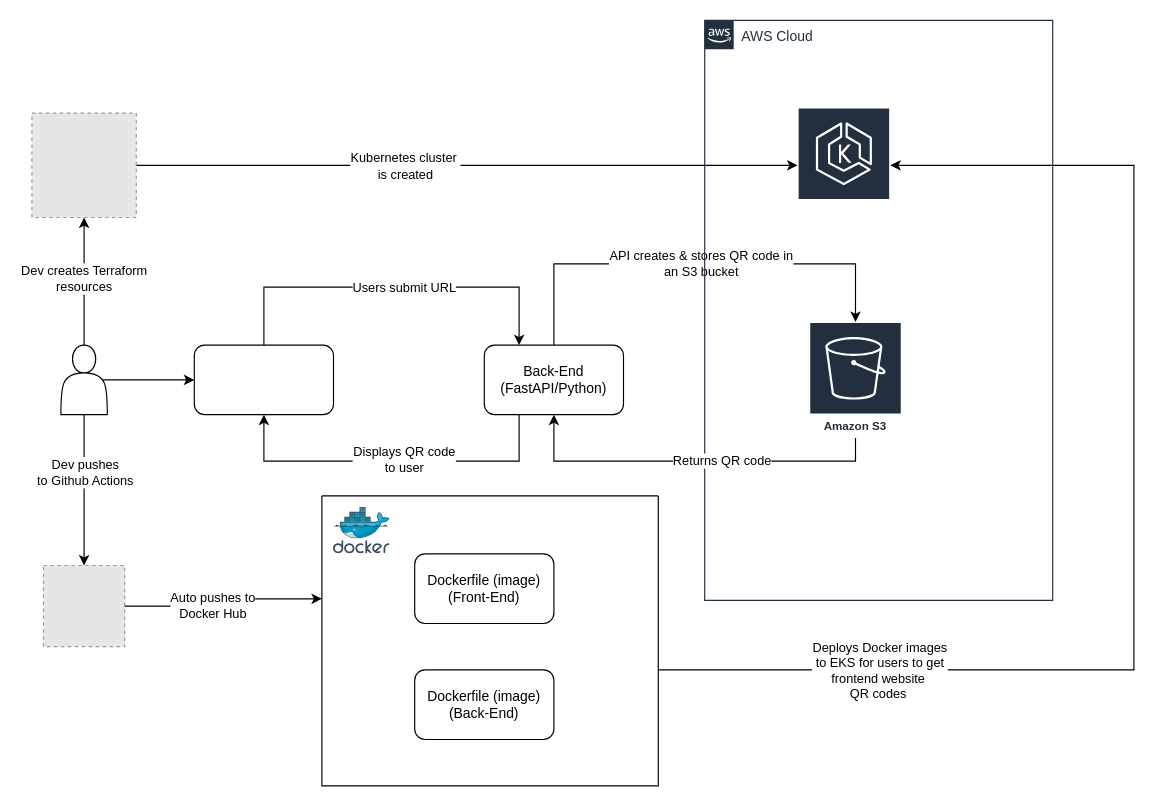
Some shapes in this 1163 by 806 pixel diagram are drawn without their labels. Grey dashed boxes stand in for pictures. The box of each missing label's shape, as (x1, y1, x2, y2) in pixels:
Amazon EKS: (796, 106, 890, 223)
Front-End (NextJS): (193, 344, 334, 415)
